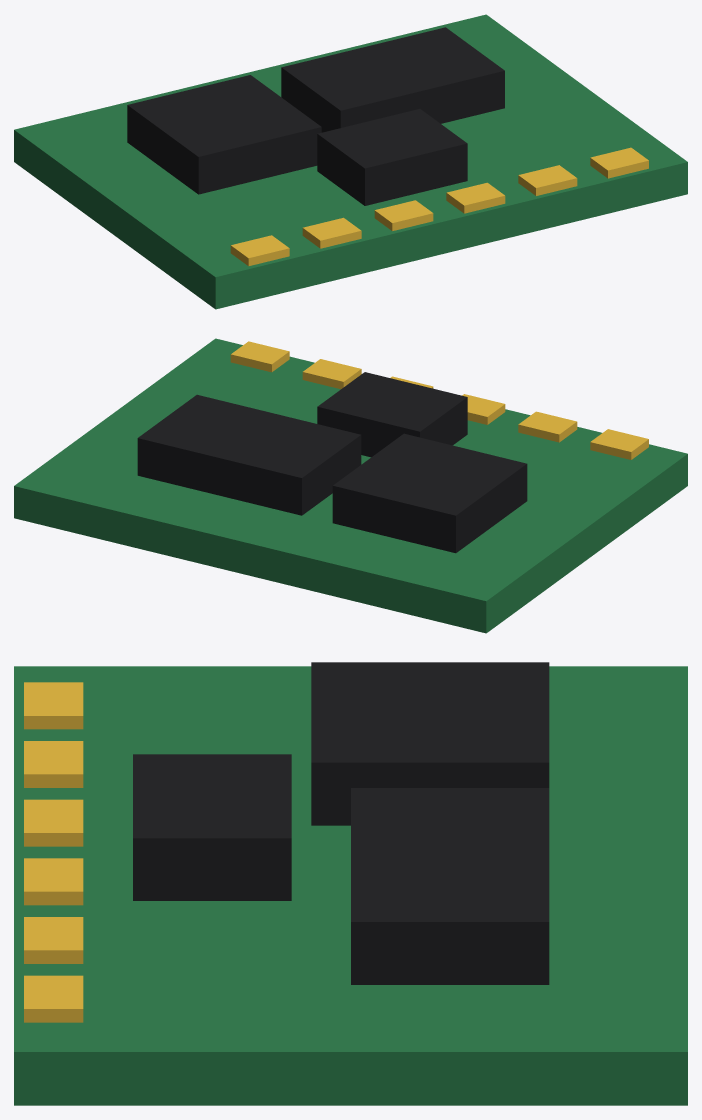
Rendered from circuit.glb.
3 renders of one model, top to bottom at view 1: azimuth 30°, elevation 25°; view 2: azimuth 150°, elevation 25°; view 3: azimuth 270°, elevation 25°, orthographic. The views are drawn at different scales.
Visible parts, largest first — view 1: circuit; view 2: circuit; view 3: circuit.
Boxes of the visible parts, x1,y1,x2,y2 form: circuit: [14, 14, 687, 309]; circuit: [14, 338, 687, 633]; circuit: [14, 662, 687, 1105].
Bounding box in the file's own units: 0.92 × 0.13 × 0.68.
